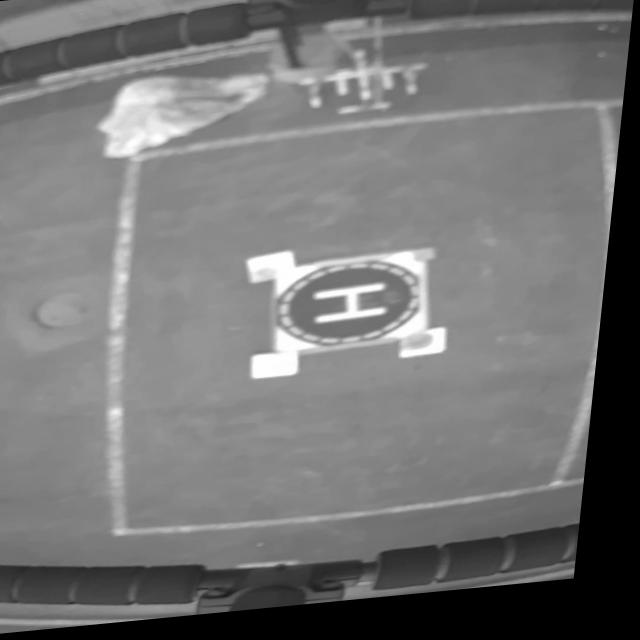Helipad: (322, 289, 395, 331)
